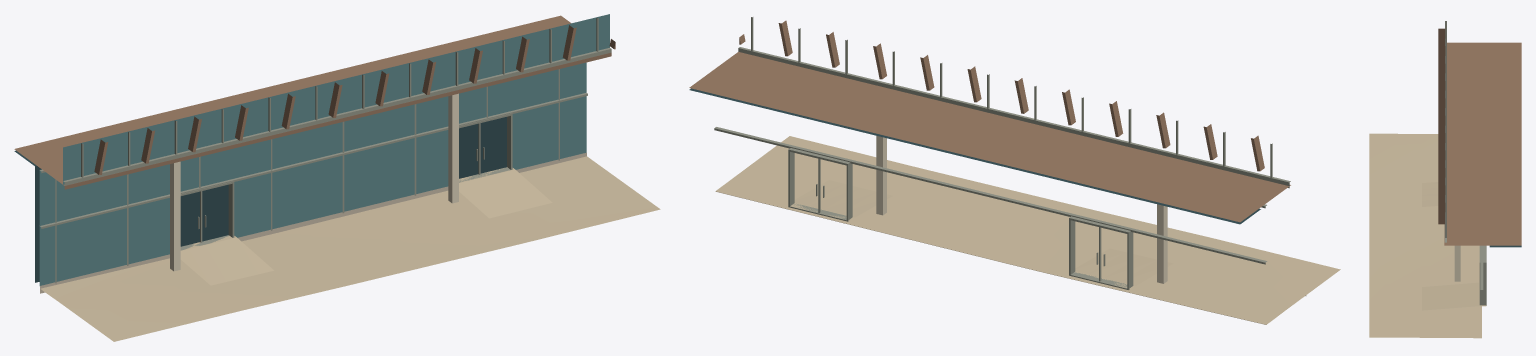
Rendered from cds-ground.glb.
The picture shows the model from 3 angles, left to right: view 1: azimuth 30°, elevation 25°; view 2: azimuth 150°, elevation 25°; view 3: azimuth 270°, elevation 25°; orthographic projection. The views are drawn at different scales.
Parts seen in each view (by area): view 1: BU architecture · glass, BU ground · paving, BU architecture · bronze, BU architecture · frame, BU architecture · glassShade, BU architecture · trim, BU architecture · stone; view 2: BU ground · paving, BU architecture · bronze, BU architecture · frame, BU architecture · trim, BU architecture · glassShade; view 3: BU ground · paving, BU architecture · bronze, BU architecture · frame, BU architecture · trim.
Part boxes in pixels (x1=…): BU architecture · glass: x1=39, y1=14, x2=609, y2=285; BU ground · paving: x1=40, y1=156, x2=660, y2=341; BU architecture · bronze: x1=14, y1=15, x2=615, y2=189; BU architecture · frame: x1=40, y1=17, x2=611, y2=283; BU architecture · glassShade: x1=14, y1=117, x2=506, y2=282; BU architecture · trim: x1=170, y1=93, x2=458, y2=271; BU architecture · stone: x1=40, y1=152, x2=586, y2=293; BU ground · paving: x1=715, y1=136, x2=1340, y2=324; BU architecture · bronze: x1=689, y1=20, x2=1290, y2=222; BU architecture · frame: x1=714, y1=17, x2=1290, y2=289; BU architecture · trim: x1=876, y1=136, x2=1167, y2=283; BU architecture · glassShade: x1=689, y1=88, x2=1260, y2=224; BU ground · paving: x1=1369, y1=133, x2=1486, y2=338; BU architecture · bronze: x1=1438, y1=28, x2=1521, y2=245; BU architecture · frame: x1=1444, y1=21, x2=1486, y2=305; BU architecture · trim: x1=1454, y1=245, x2=1460, y2=281.
Bounding box in the file's own units: 27.5 × 7.93 × 8.7.
